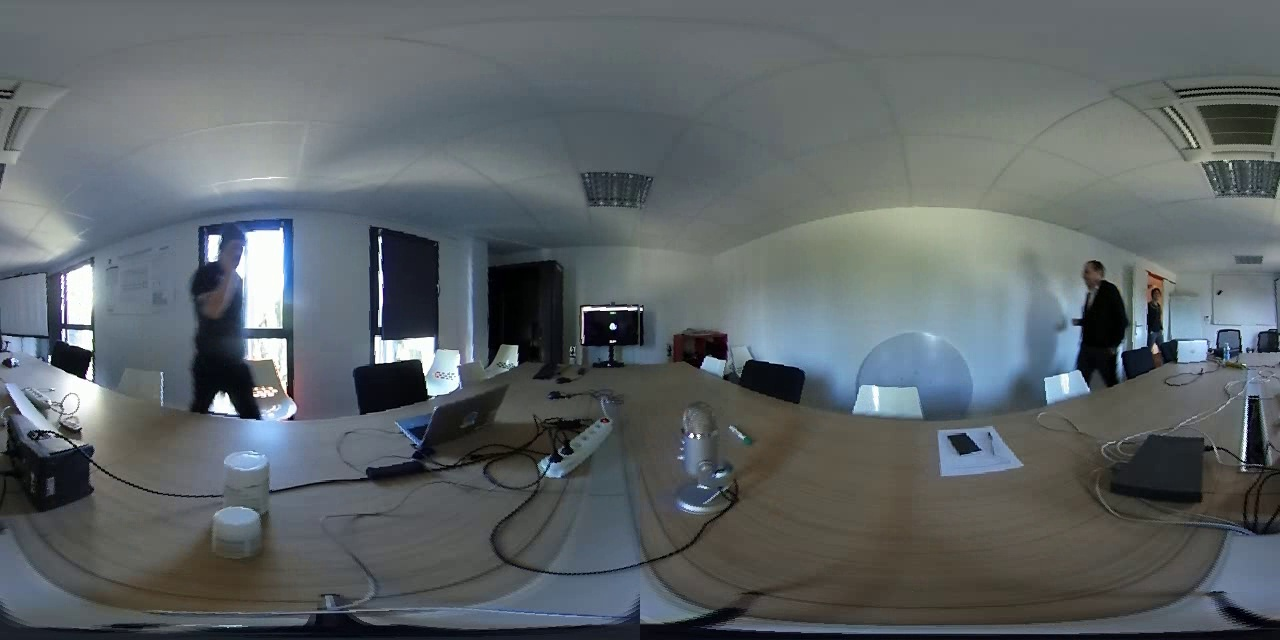person: (186, 204, 261, 418), (1065, 249, 1135, 365), (1146, 273, 1170, 343)
